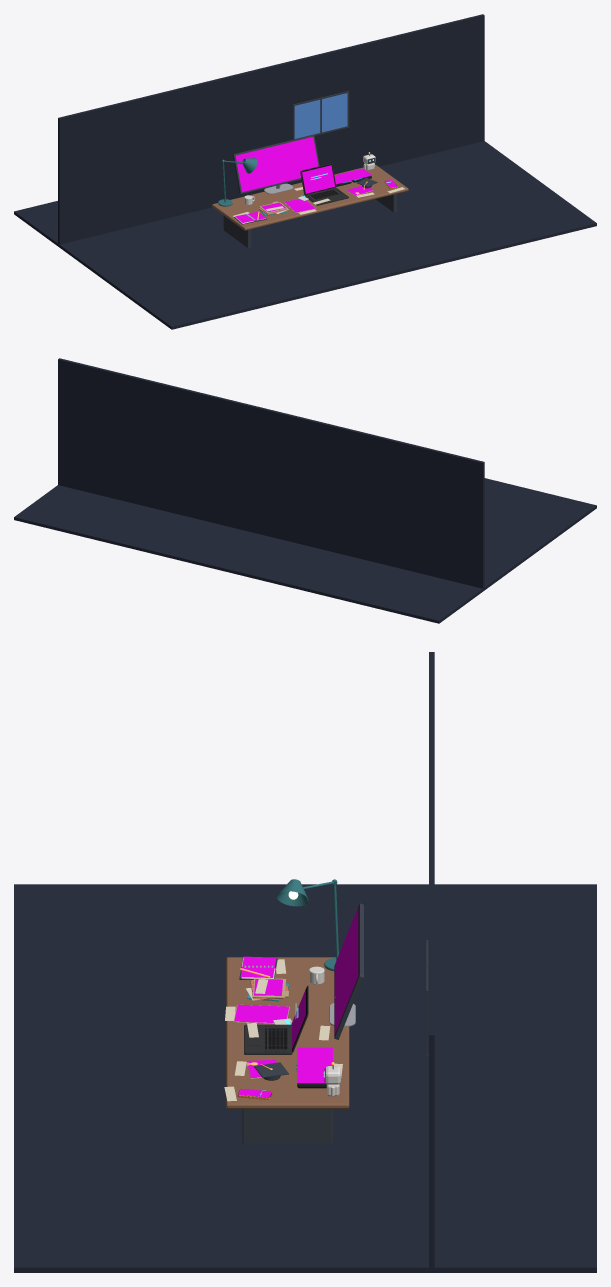
Rendered from workstation.glb.
The picture shows the model from 3 angles, top to bottom: view 1: azimuth 30°, elevation 25°; view 2: azimuth 150°, elevation 25°; view 3: azimuth 270°, elevation 25°; orthographic projection. The views are drawn at different scales.
Parts seen in each view (by area): view 1: room-back-wall, room-floor, desk-top, surface-overview, room-window-sky, surface-work, overview-monitor, desk-leg; view 2: room-back-wall, room-floor; view 3: room-floor, desk-top, room-back-wall, desk-leg.001, surface-overview, surface-skills, hotspot-work-laptop, overview-monitor, surface-profile.
Part boxes in pixels (x1,y1,x2,y2): room-back-wall: (58,14,484,244); room-floor: (14,141,596,329); desk-top: (212,164,408,230); surface-overview: (235,137,318,192); room-window-sky: (294,93,347,138); surface-work: (302,165,335,193); overview-monitor: (233,135,319,193); desk-leg: (223,215,251,247); room-back-wall: (58,358,484,589); room-floor: (14,478,596,623); room-floor: (14,884,596,1272); desk-top: (226,957,349,1108); room-back-wall: (429,652,434,1270); desk-leg.001: (242,1109,332,1143); surface-overview: (334,907,358,1034); surface-skills: (297,1047,332,1083); hotspot-work-laptop: (244,1024,292,1054); overview-monitor: (334,903,363,1039); surface-profile: (234,1004,288,1022).
Bounding box in the file's own units: 28 × 8.09 × 18.
